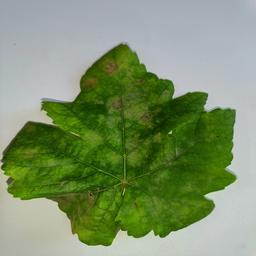Powdery-Mildew: (14, 145, 63, 188), (122, 195, 164, 224), (119, 101, 156, 133), (126, 55, 148, 88), (128, 149, 145, 166), (83, 188, 100, 205), (81, 74, 97, 91), (83, 131, 100, 147), (102, 56, 118, 72), (105, 92, 121, 108)
